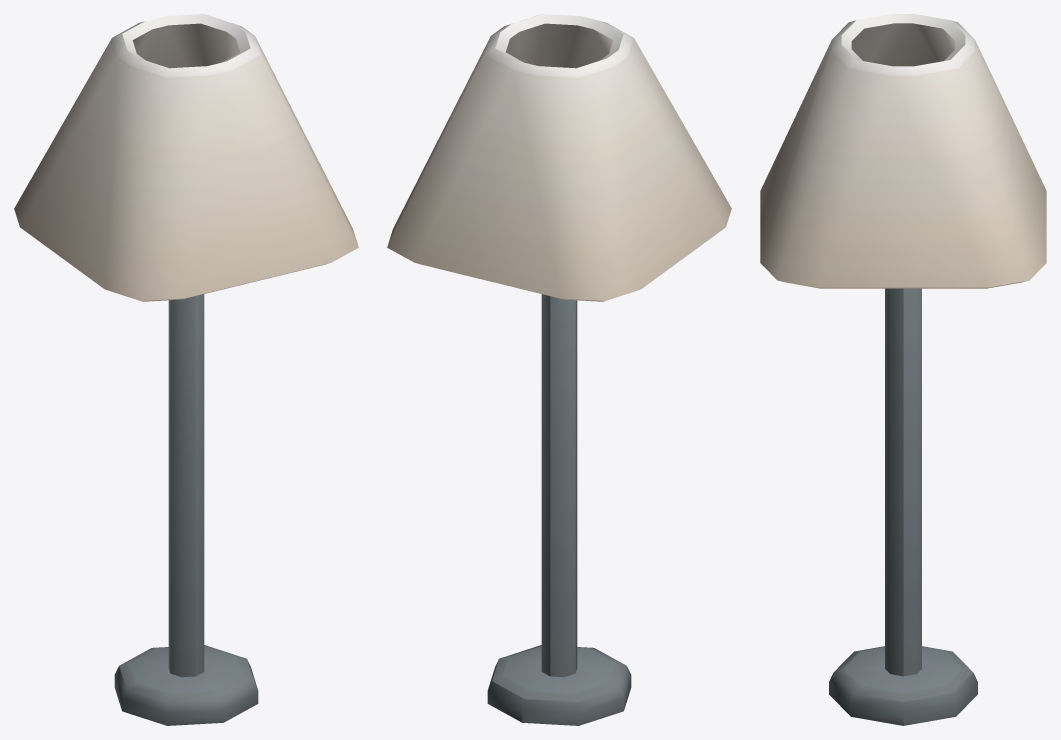
File: lamp_standing.glb
3 renders of one model, left to right at view 1: azimuth 30°, elevation 25°; view 2: azimuth 150°, elevation 25°; view 3: azimuth 270°, elevation 25°, orthographic.
Visible parts, largest first — view 1: lamp_standing; view 2: lamp_standing; view 3: lamp_standing.
Boxes of the visible parts, bbox=[...] form: lamp_standing: bbox=[14, 14, 358, 725]; lamp_standing: bbox=[387, 14, 731, 725]; lamp_standing: bbox=[760, 14, 1046, 725].
Size of the model in its own units: 0.9999 by 2.52 by 0.9999.
1 material, 1 textured.
